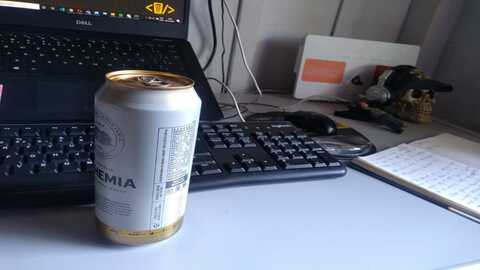bohemia: (91, 67, 199, 248)
